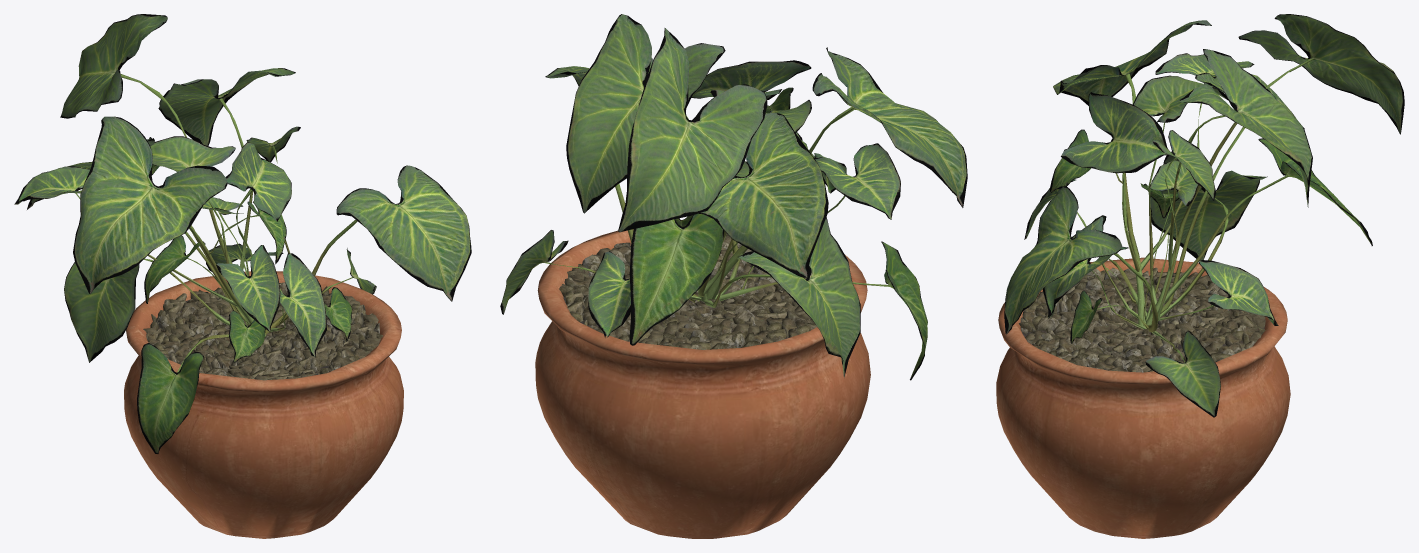
File: potted_plant_02.glb
3 views of the same model, side by side, from view 1: azimuth 30°, elevation 25°; view 2: azimuth 150°, elevation 25°; view 3: azimuth 270°, elevation 25° (orthographic). The views are drawn at different scales.
Parts seen in each view (by area): view 1: potted_plant_02_leaves, potted_plant_02_pot, potted_plant_02_dirt; view 2: potted_plant_02_leaves, potted_plant_02_pot, potted_plant_02_dirt; view 3: potted_plant_02_leaves, potted_plant_02_pot, potted_plant_02_dirt.
Part boxes in pixels (x1=…): potted_plant_02_leaves: x1=14, y1=14, x2=471, y2=453; potted_plant_02_pot: x1=124, y1=271, x2=403, y2=538; potted_plant_02_dirt: x1=143, y1=282, x2=382, y2=380; potted_plant_02_leaves: x1=500, y1=14, x2=967, y2=380; potted_plant_02_pot: x1=535, y1=220, x2=870, y2=538; potted_plant_02_dirt: x1=559, y1=233, x2=816, y2=349; potted_plant_02_leaves: x1=1004, y1=14, x2=1404, y2=417; potted_plant_02_pot: x1=996, y1=257, x2=1290, y2=538; potted_plant_02_dirt: x1=1019, y1=267, x2=1265, y2=372.
Bounding box in the file's own units: 0.7009 × 0.8412 × 0.6561.
2 materials, 2 textured.
